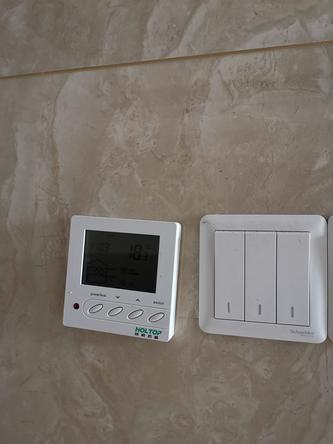switch: (271, 228, 313, 329), (241, 227, 283, 326), (209, 226, 251, 324)
